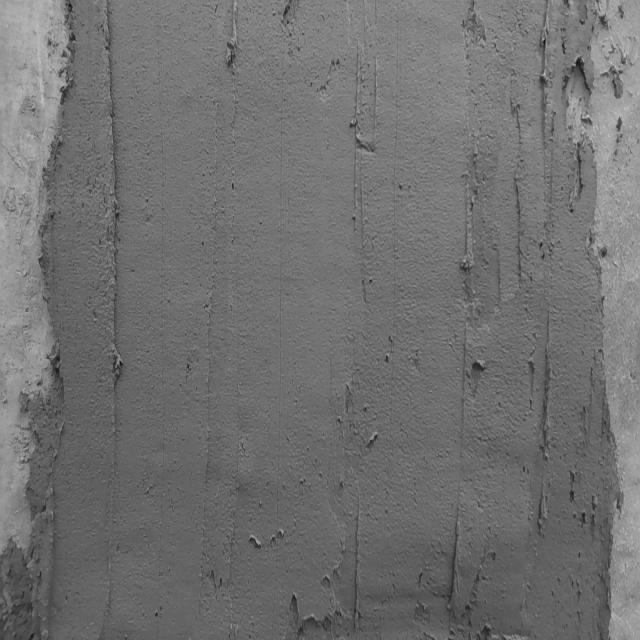trowels marks: (446, 164, 481, 618), (99, 2, 123, 636), (528, 0, 554, 541)
